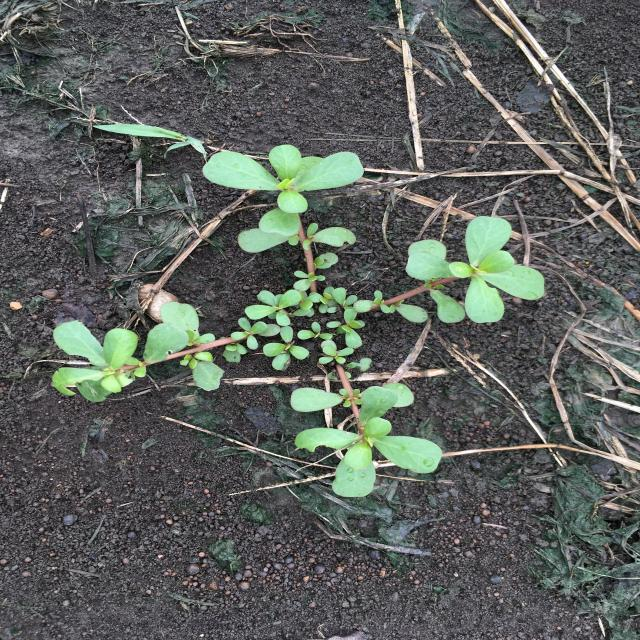Purslane: (52, 145, 544, 498)
